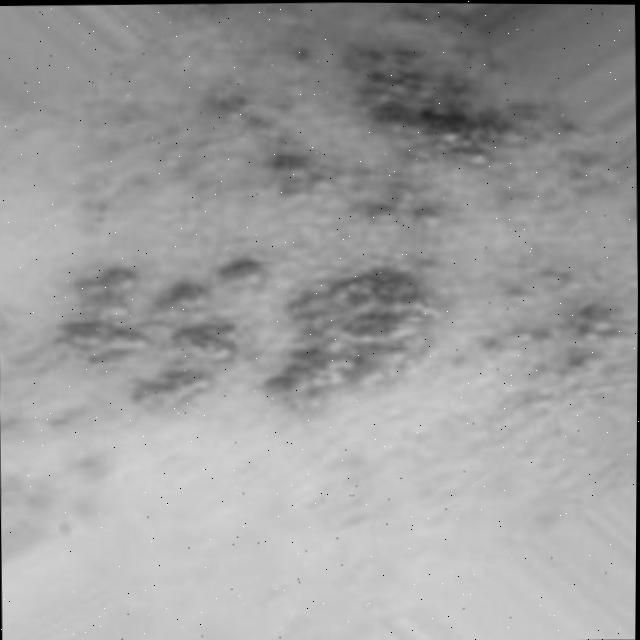Shingles: (62, 51, 618, 441)
